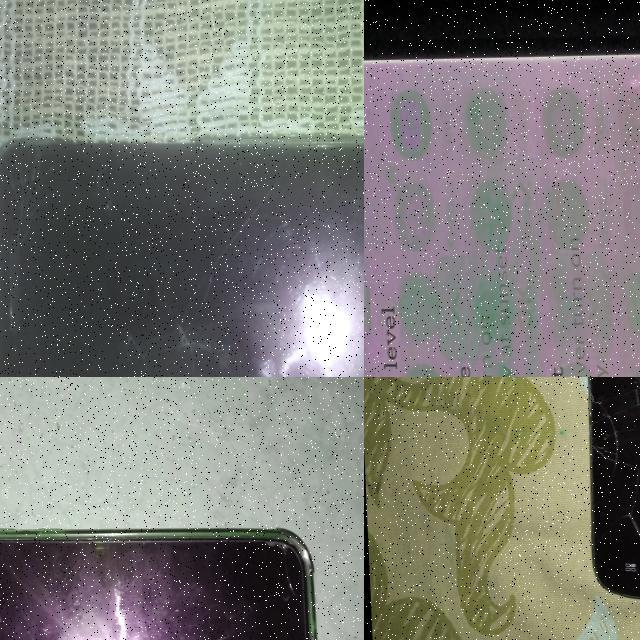screen crack: (109, 229, 257, 377), (565, 377, 640, 620), (243, 510, 310, 570)
